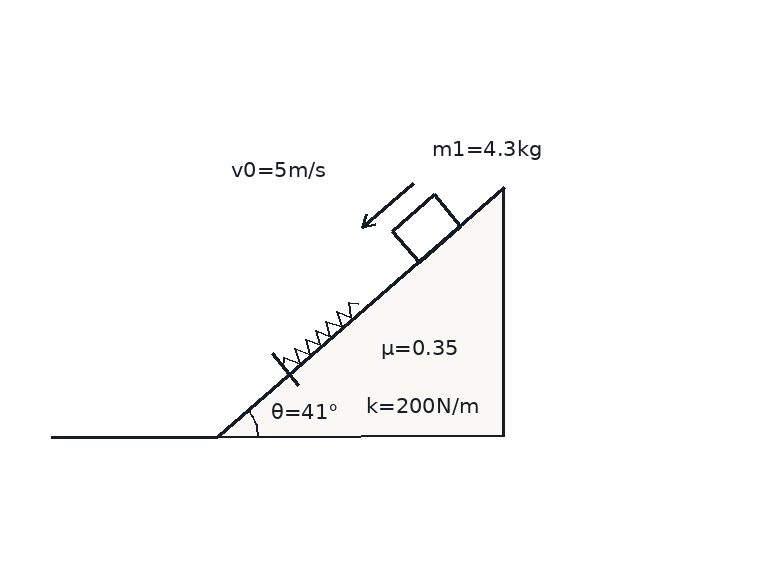block: (390, 192, 462, 264)
ramp: (216, 186, 505, 438)
spring: (281, 300, 360, 369)
